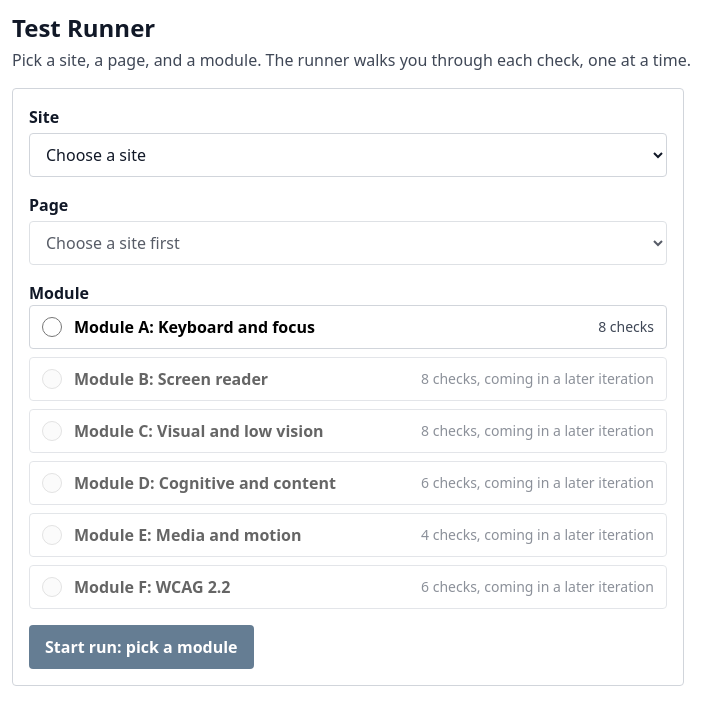
it: Test Runner setup › keeps the site selected after choosing it
Select "Sample University Department (sample)" in the dropdown labelled "Site" at (348, 155), box x1=29 y1=133 x2=667 y2=177
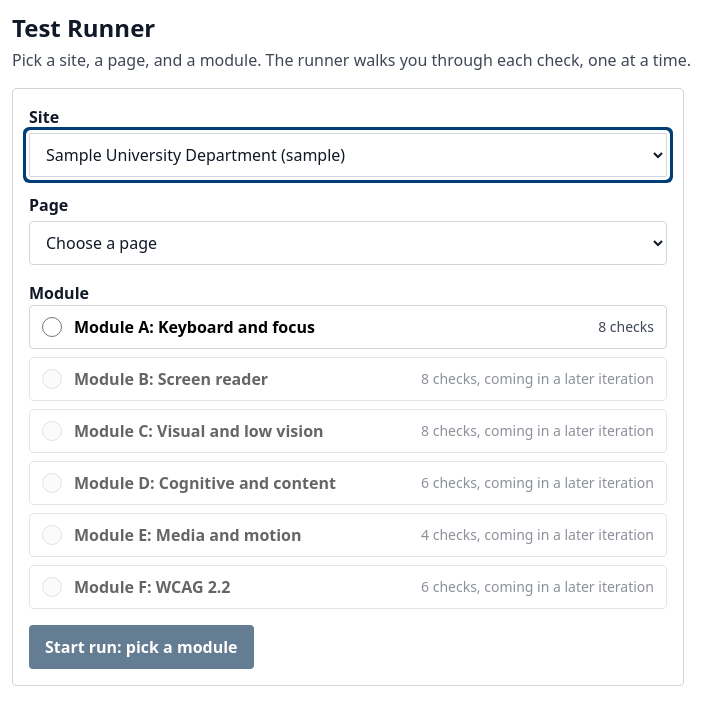
Expected: the dropdown labelled "Page" is enabled, x1=29 y1=221 x2=667 y2=265
